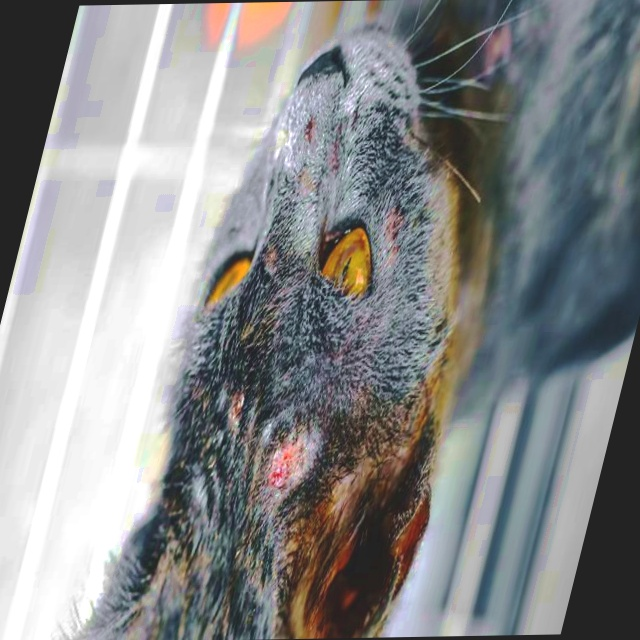ringworm: (247, 416, 342, 485), (224, 391, 246, 427)
